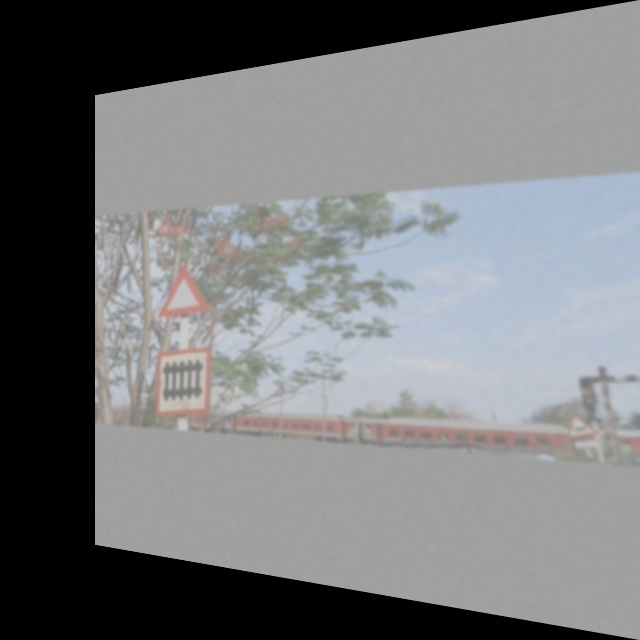Guarded_Level_Crossing: (154, 339, 215, 417)
